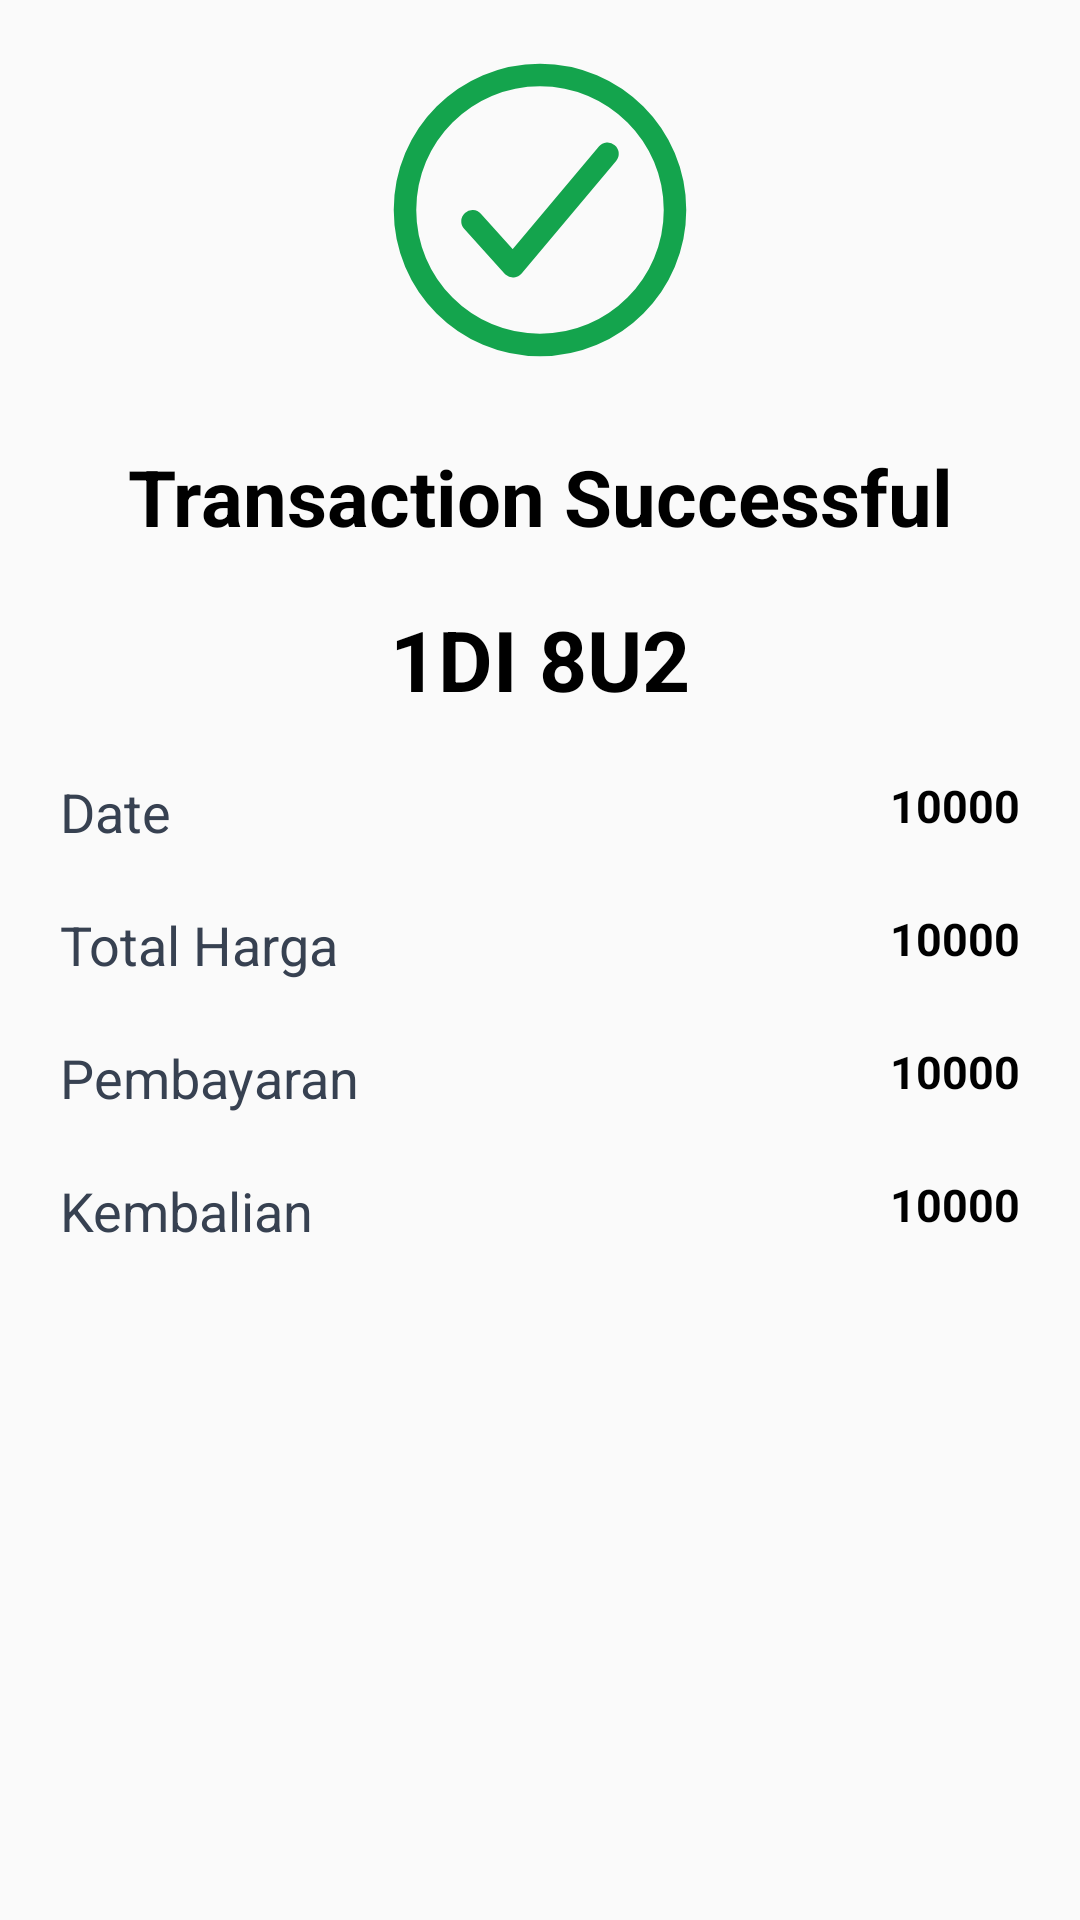

Named icons in this screenshot (1080 × 1920) and their centers, (x=x, y=y):
check: (x=540, y=210)
